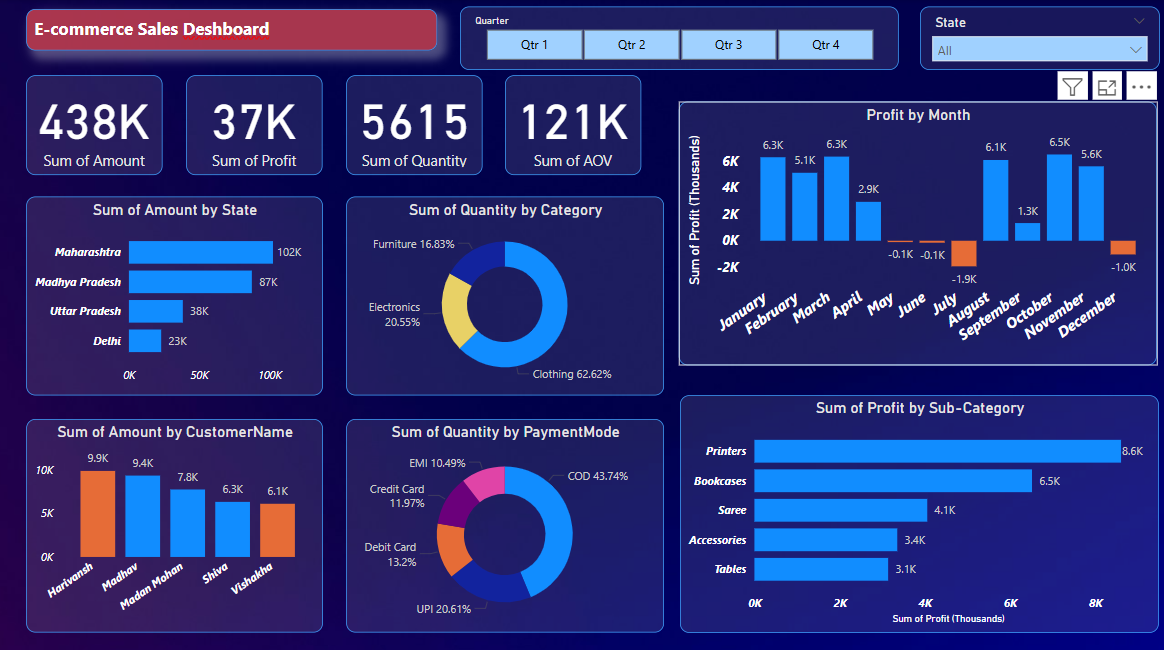

The dashboard page shown, as its layout file describes it:
{"tool":"powerbi","page":{"name":"Page 1","canvas":[1280,720],"ordinal":0},"visuals":[{"type":"textbox","box":[28.8,11,451.5,45.3],"z":0},{"type":"columnChart","title":"Profit by Month","fields":{"Category":["Orders.Order Date.Variation.Date Hierarchy.Month"],"Y":["Details.Profit"]},"box":[745.6,112.2,524.8,289.5],"z":1000},{"type":"clusteredBarChart","fields":{"Category":["Details.Sub-Category"],"Y":["Details.Profit"]},"box":[746.5,435,525.6,260.7],"z":2000},{"type":"donutChart","fields":{"Category":["Details.Category"],"Y":["Details.Quantity"]},"box":[380.1,216.8,348.5,218.2],"z":3000},{"type":"donutChart","fields":{"Y":["Details.Quantity"],"Category":["Details.PaymentMode"]},"box":[380.1,461.1,348.5,234.6],"z":4000},{"type":"card","fields":{"Values":["Details.Amount"]},"box":[28.8,83.7,149.6,109.8],"z":5000},{"type":"card","fields":{"Values":["Details.AOV"]},"box":[554.4,83.7,149.6,109.8],"z":6000},{"type":"card","fields":{"Values":["Details.Profit"]},"box":[204.5,83.7,149.6,109.8],"z":7000},{"type":"card","fields":{"Values":["Details.Quantity"]},"box":[380.1,83.7,149.6,109.8],"z":8000},{"type":"barChart","fields":{"Y":["Details.Amount"],"Category":["Orders.State"]},"box":[28.8,216.8,325.2,218.2],"z":9000},{"type":"columnChart","fields":{"Y":["Details.Amount"],"Category":["Orders.CustomerName"]},"box":[28.8,461.1,325.2,234.6],"z":10000},{"type":"slicer","fields":{"Values":["Orders.Order Date.Variation.Date Hierarchy.Quarter"]},"box":[505,8.2,481.6,70],"z":11000},{"type":"slicer","fields":{"Values":["Orders.State"]},"box":[1010,8.2,263.5,70],"z":12000}]}

Visuals, with their boxes in screenshot pixels (x1, y1, x2, y2), scaled from the page's 1280x720 canvas onto the 1164x650 screenshot:
textbox: box=[26, 10, 437, 51]
"Profit by Month" columnChart: box=[678, 101, 1155, 363]
clusteredBarChart - Details.Sub-Category x Details.Profit: box=[679, 393, 1157, 628]
donutChart - Details.Category x Details.Quantity: box=[346, 196, 663, 393]
donutChart - Details.Quantity x Details.PaymentMode: box=[346, 416, 663, 628]
card - Details.Amount: box=[26, 76, 162, 175]
card - Details.AOV: box=[504, 76, 640, 175]
card - Details.Profit: box=[186, 76, 322, 175]
card - Details.Quantity: box=[346, 76, 482, 175]
barChart - Details.Amount x Orders.State: box=[26, 196, 322, 393]
columnChart - Details.Amount x Orders.CustomerName: box=[26, 416, 322, 628]
slicer - Orders.Order Date.Variation.Date Hierarchy.Quarter: box=[459, 7, 897, 71]
slicer - Orders.State: box=[918, 7, 1158, 71]
